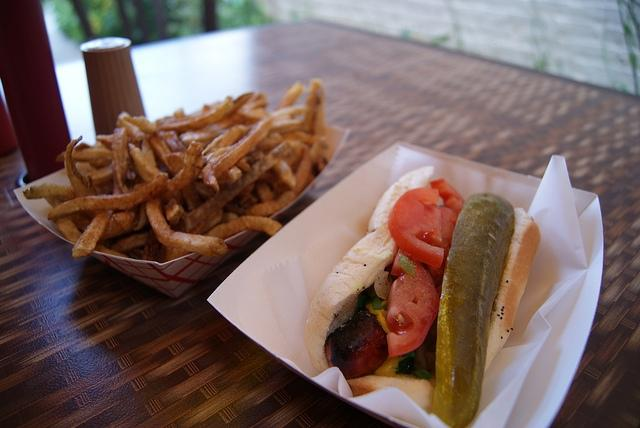tomato: (388, 178, 464, 270), (386, 248, 439, 358)
